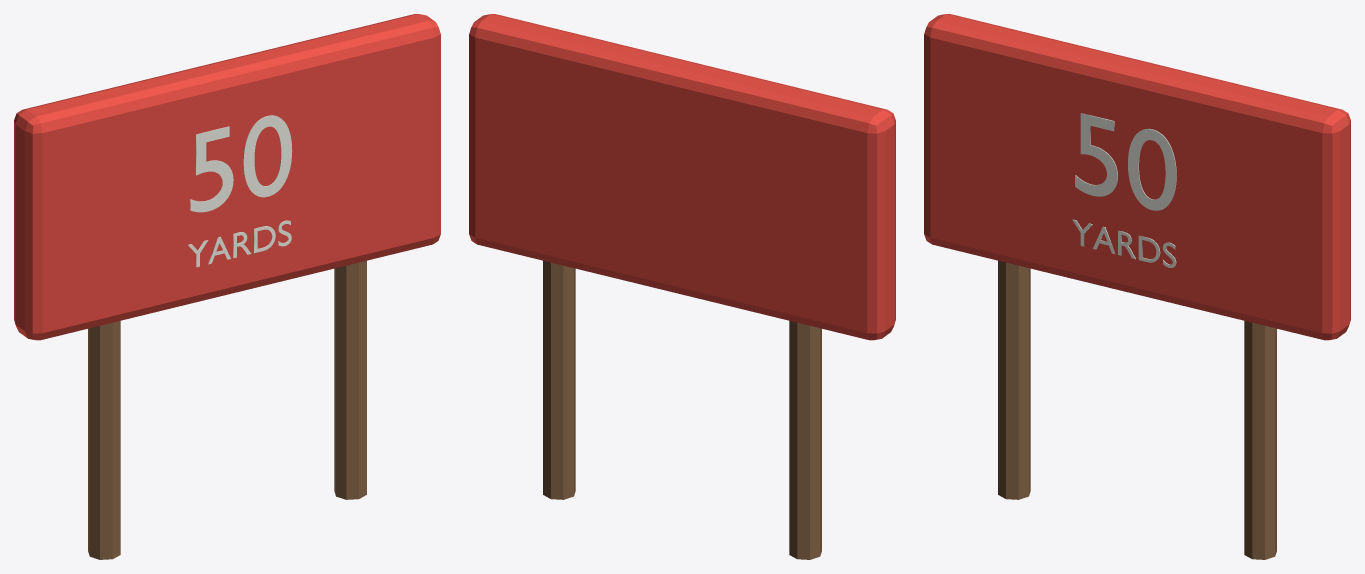
Rendered from distance-marker-50.glb.
The picture shows the model from 3 angles, left to right: view 1: azimuth 30°, elevation 25°; view 2: azimuth 150°, elevation 25°; view 3: azimuth 330°, elevation 25°; orthographic projection.
Visible parts, largest first — view 1: Board, Post, Post.001, Yardage, Unit; view 2: Board, Post, Post.001; view 3: Board, Post.001, Post, Yardage, Unit.
Part boxes in pixels (<box>): Board: <box>14,14,440,340</box>; Post: <box>88,321,120,559</box>; Post.001: <box>334,260,366,499</box>; Yardage: <box>190,115,292,212</box>; Unit: <box>188,220,291,267</box>; Board: <box>469,14,895,340</box>; Post: <box>789,321,821,559</box>; Post.001: <box>543,260,575,499</box>; Board: <box>924,14,1350,340</box>; Post.001: <box>1244,321,1276,559</box>; Post: <box>998,260,1030,499</box>; Yardage: <box>1075,113,1176,210</box>; Unit: <box>1072,219,1176,267</box>.
Bounding box in the file's own units: 1.28 × 1.35 × 0.129.
